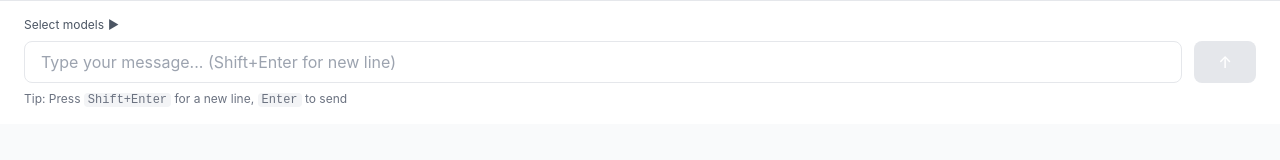
it: Composer › should enable button when input has content
The width and height of the screenshot is (1280, 160).
expect the button "↑" is disabled: met, box [1194,41,1256,83]
In the text box with placeholder "Type your message... (Shift+Enter for new line)": (603,62) [24,41,1182,83], type "Hello"
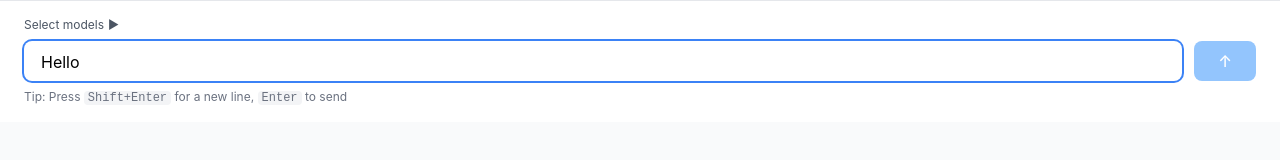
expect the button "↑" is enabled: met, box [1194,41,1256,81]
